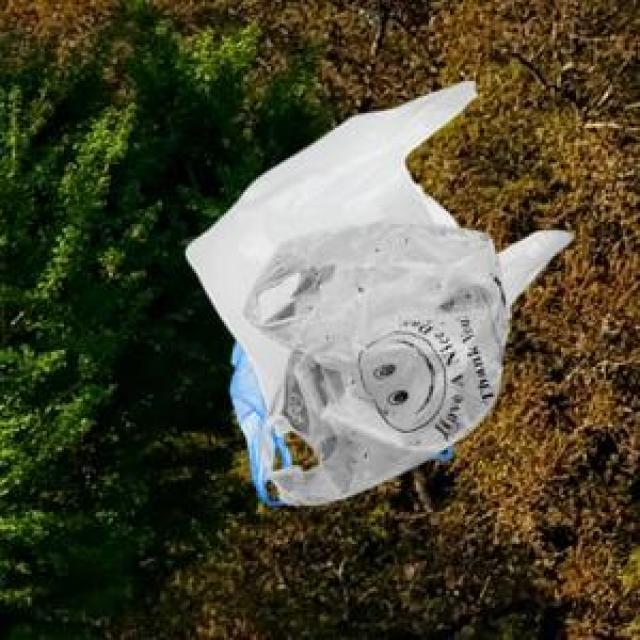waste: (188, 82, 572, 506)
